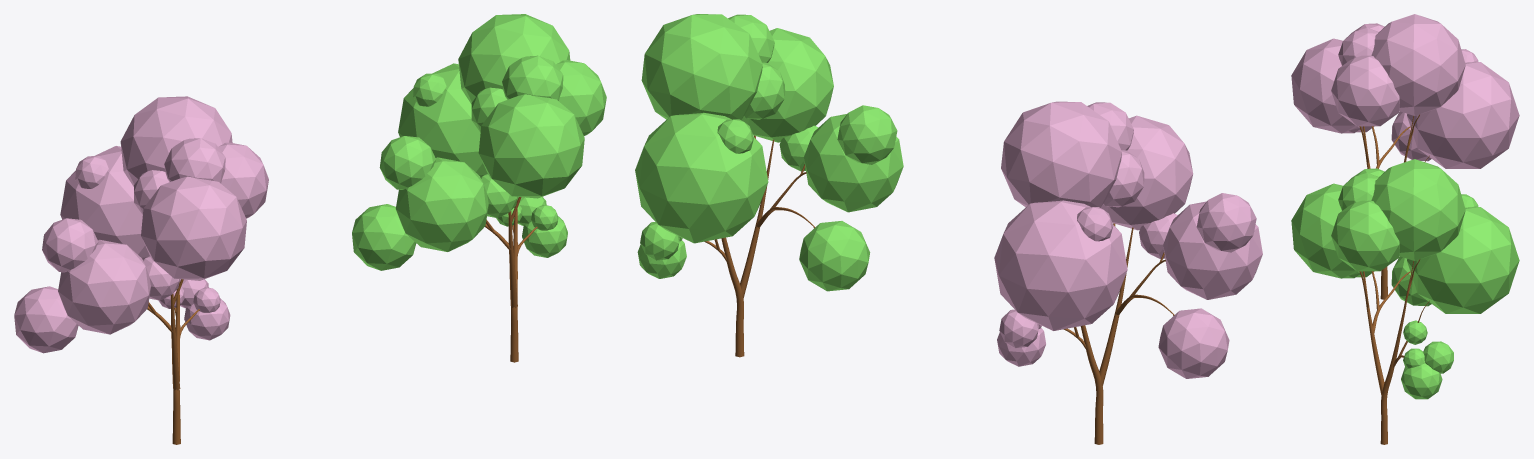
File: ParkTrees.glb
The picture shows the model from 3 angles, left to right: view 1: azimuth 30°, elevation 25°; view 2: azimuth 150°, elevation 25°; view 3: azimuth 270°, elevation 25°; orthographic projection. The views are drawn at different scales.
Visible parts, largest first — view 1: Icosphere.001, Icosphere.010, tree, tree.001; view 2: Icosphere.001, Icosphere.010, tree, tree.001; view 3: Icosphere.010, Icosphere.001, tree, tree.001.
Part boxes in pixels (x1=…): Icosphere.001: x1=14, y1=96, x2=268, y2=353; Icosphere.010: x1=352, y1=14, x2=606, y2=270; tree: x1=485, y1=197, x2=537, y2=362; tree.001: x1=147, y1=279, x2=199, y2=444; Icosphere.001: x1=994, y1=101, x2=1262, y2=378; Icosphere.010: x1=635, y1=14, x2=903, y2=291; tree: x1=704, y1=135, x2=815, y2=357; tree.001: x1=1063, y1=223, x2=1174, y2=444; Icosphere.010: x1=1291, y1=159, x2=1519, y2=399; Icosphere.001: x1=1291, y1=14, x2=1519, y2=168; tree: x1=1359, y1=259, x2=1429, y2=444; tree.001: x1=1359, y1=114, x2=1429, y2=299.
Bounding box in the file's own units: 13.56 × 7.62 × 5.51.
